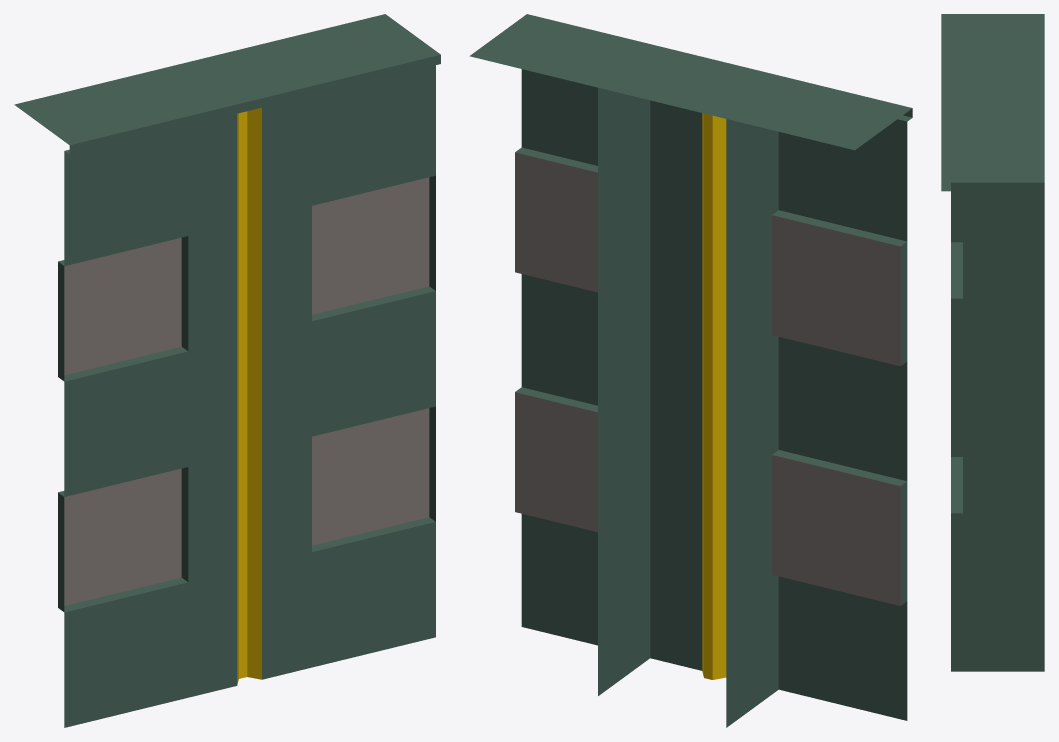
3 views of the same model, side by side, from view 1: azimuth 30°, elevation 25°; view 2: azimuth 150°, elevation 25°; view 3: azimuth 270°, elevation 25° (orthographic). The views are drawn at different scales.
Visible parts, largest first — view 1: Column.063; view 2: Column.063; view 3: Column.063.
Boxes of the visible parts, x1,y1,x2,y2 form: Column.063: (14, 14, 440, 727); Column.063: (469, 14, 912, 727); Column.063: (941, 14, 1044, 671).
Size of the model in its own units: 835 by 1261 by 217.
